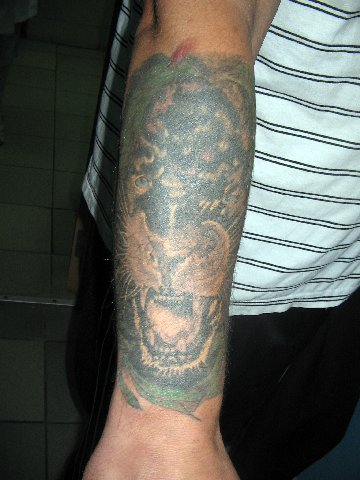tatu5_tigr: (118, 47, 250, 424)
